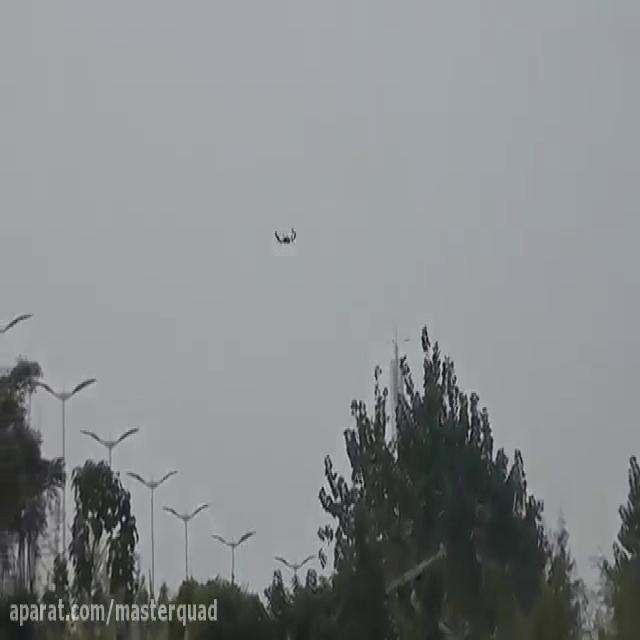drone: (270, 217, 300, 251)
